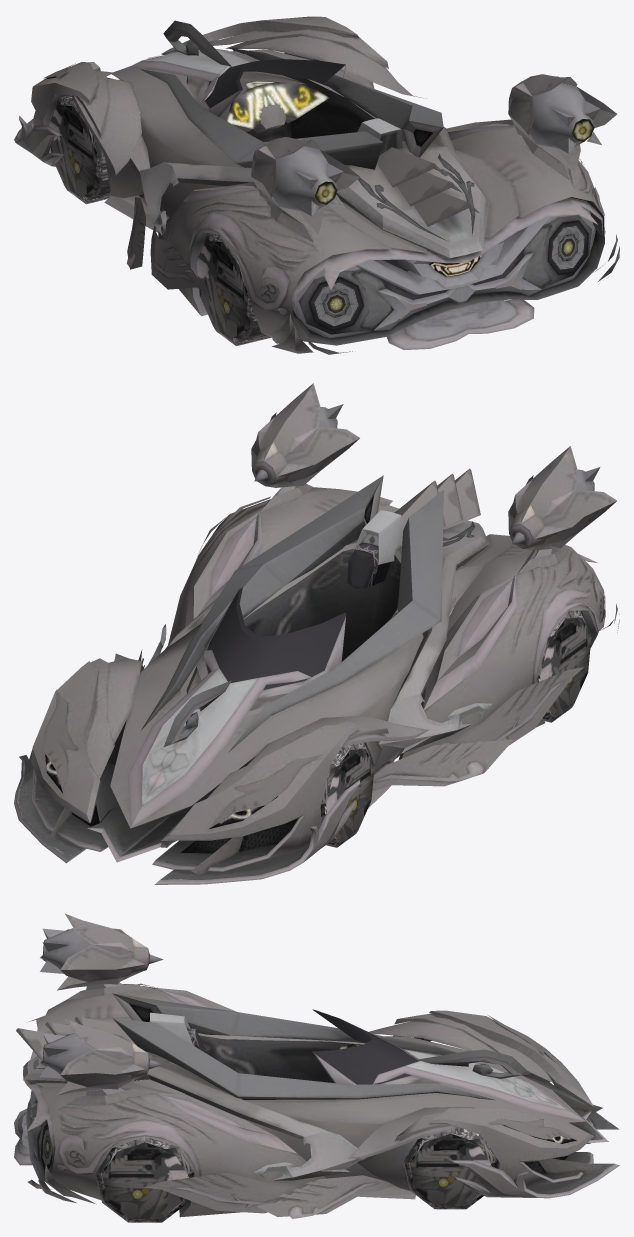
The picture shows the model from 3 angles, top to bottom: view 1: azimuth 30°, elevation 25°; view 2: azimuth 150°, elevation 25°; view 3: azimuth 270°, elevation 25°; orthographic projection. The views are drawn at different scales.
Visible parts, largest first — view 1: body; view 2: body; view 3: body.
Part boxes in pixels (<box>): body: <box>14,16,619,354</box>; body: <box>14,383,619,884</box>; body: <box>14,913,619,1222</box>.
Bounding box in the file's own units: 2.84 × 1.62 × 4.71.
Materials: 1 (1 with a texture image).
